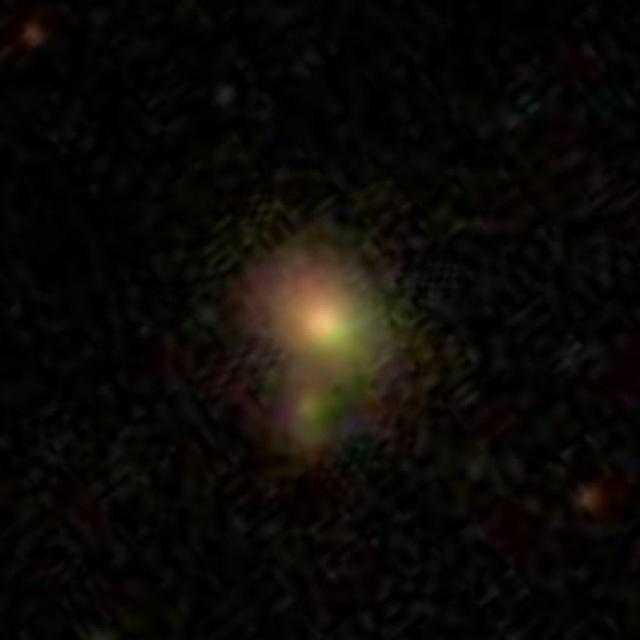galaxy: (188, 208, 470, 421), (233, 361, 385, 486), (570, 481, 609, 520), (17, 22, 50, 50), (211, 80, 238, 107)
